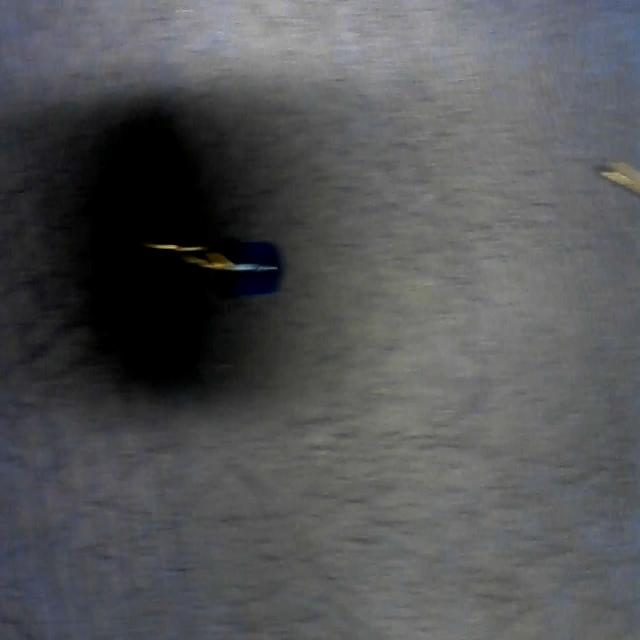LED: (138, 224, 282, 296)
